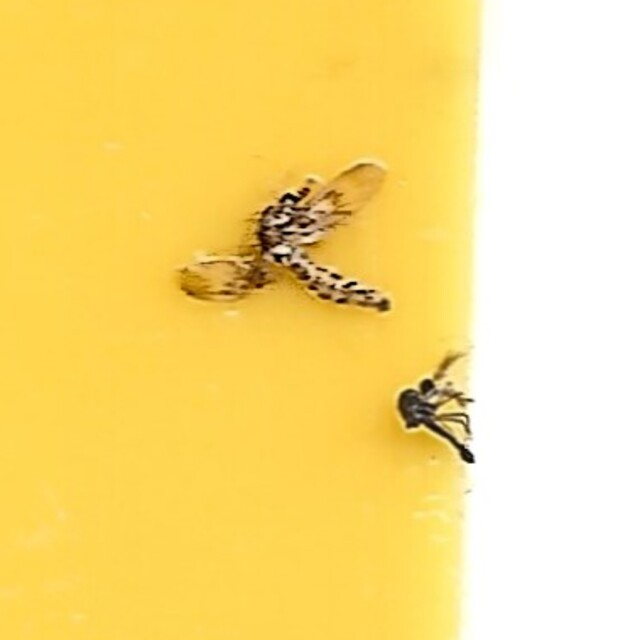Nematocera: (169, 162, 400, 316), (395, 361, 471, 478)
